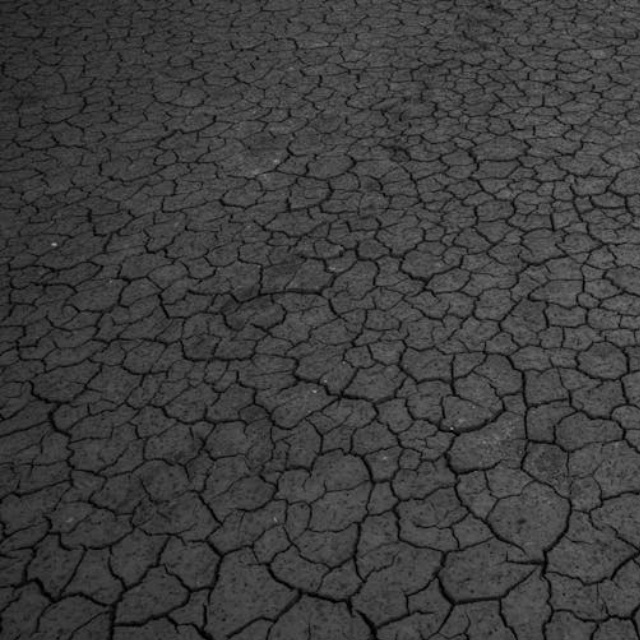网状裂隙: (0, 0, 640, 524)
